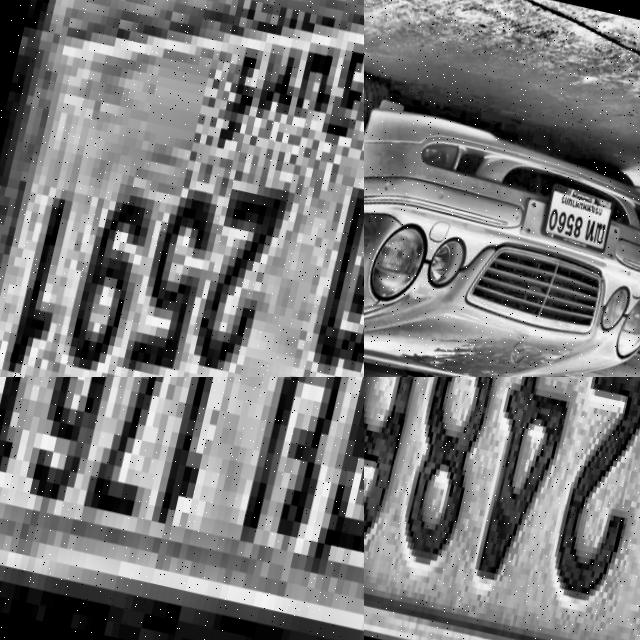license-plate: (0, 0, 364, 377), (0, 377, 364, 640), (364, 377, 640, 640), (538, 179, 617, 257)
